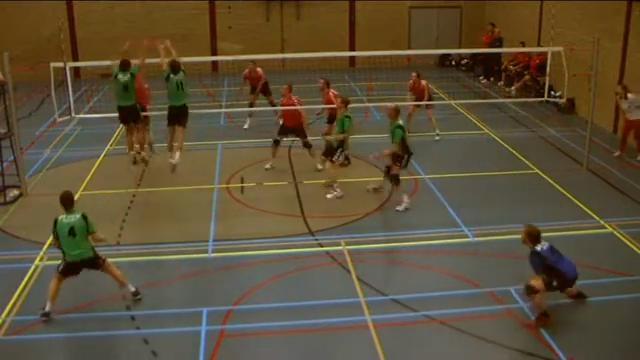muro: (102, 33, 152, 164), (152, 35, 195, 179)
